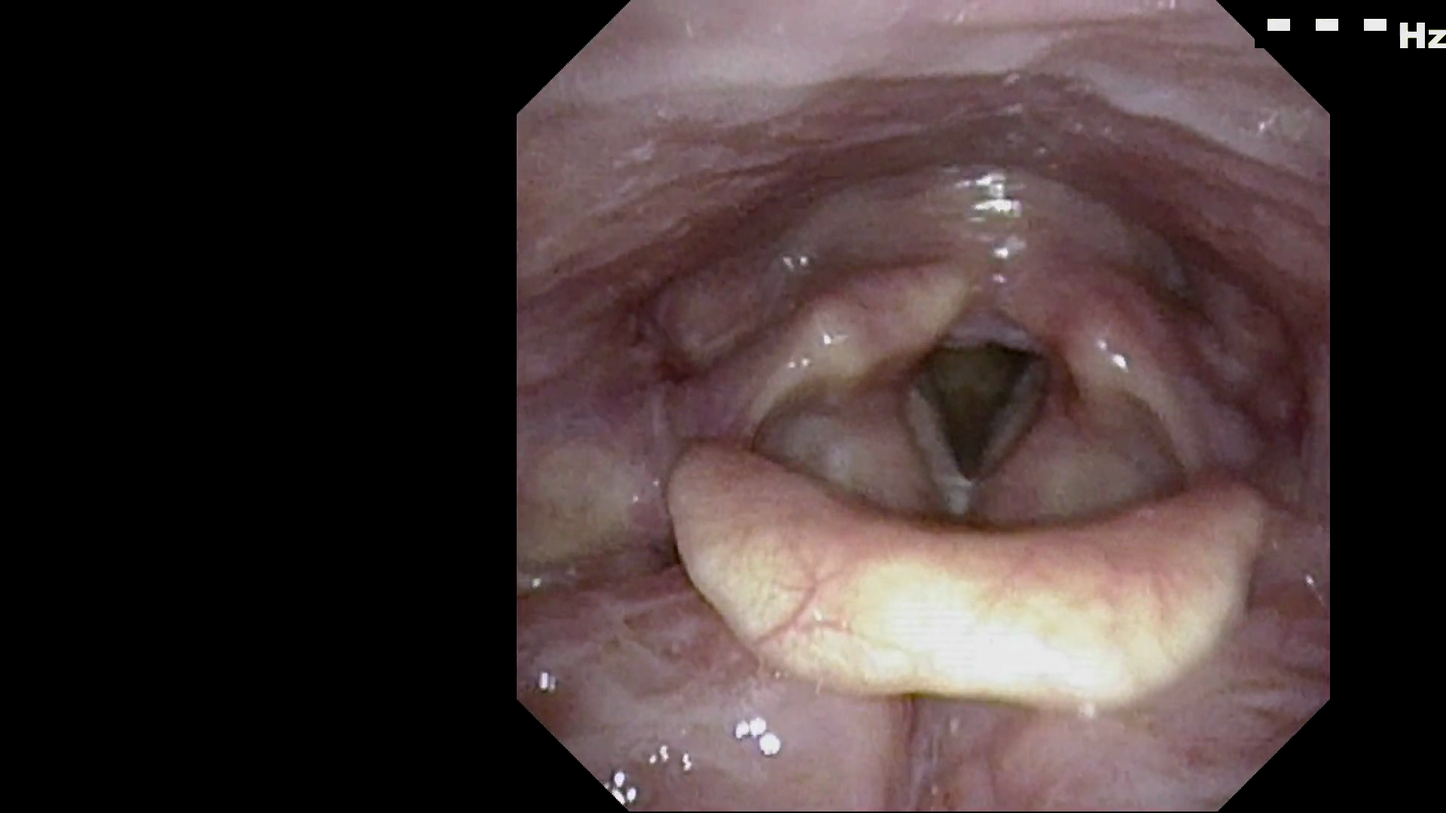epiglottis: (659, 415, 1276, 692)
trachea: (891, 316, 1057, 488)
